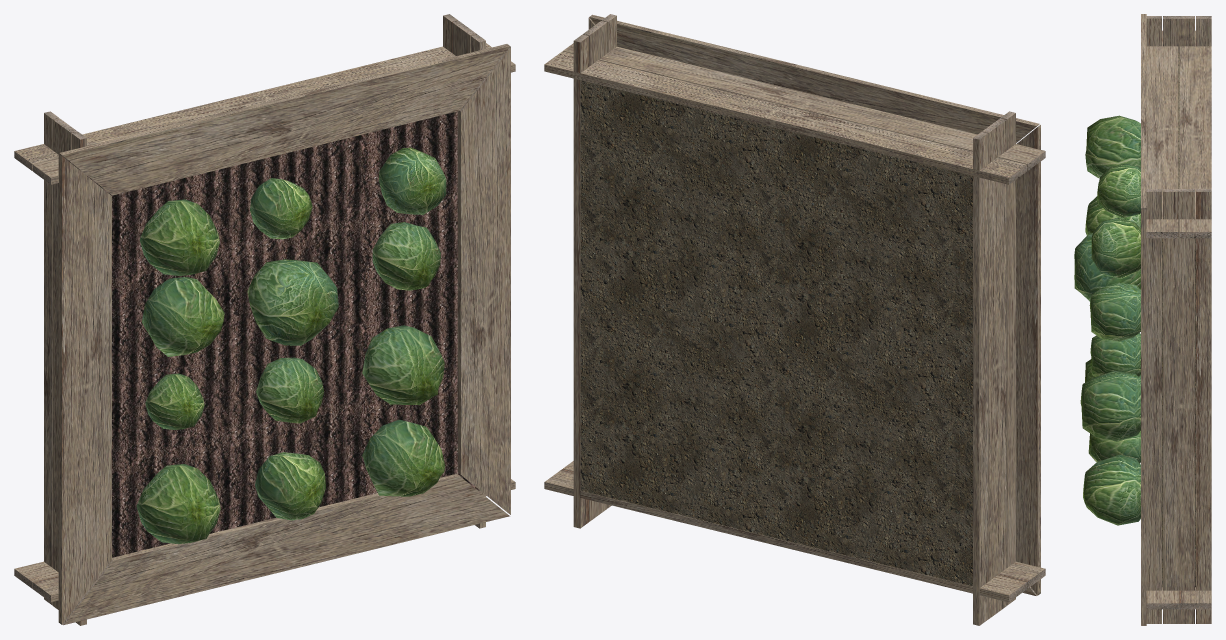
The model's file is cabbage-ripe.dae.
The picture shows the model from 3 angles, left to right: view 1: azimuth 30°, elevation 25°; view 2: azimuth 150°, elevation 25°; view 3: azimuth 270°, elevation 25°; orthographic projection. The views are drawn at different scales.
Parts seen in each view (by area): view 1: dirt, top_2_Cube_022, top_1_Cube_016, top_4_Cube_023, top_3_Cube_021, cabbage_10_SphFBXASC195FBXASC131_re_011, plank_01_Cube_02, cabbage_6_SphFBXASC195FBXASC131_re_007, cabbage_3_SphFBXASC195FBXASC131_re_004, cabbage_1_SphFBXASC195FBXASC131_re_002, cabbage_5_SphFBXASC195FBXASC131_re_006, cabbage_12_SphFBXASC195FBXASC131_re (+9 smaller); view 2: dirt, plank_01_Cube_02, top_1_Cube_016, top_2_Cube_022, plank_04_Cube_006, plank_02_Cube_03, plank_03_Cube_004, plank_06_Cube_009, plank_08_Cube_011, plank_05_Cube_007, plank_09_Cube_013, plank_07_Cube_010; view 3: plank_09_Cube_013, plank_08_Cube_011, plank_10_Cube_014, plank_02_Cube_03, plank_01_Cube_02, cabbage_6_SphFBXASC195FBXASC131_re_007, cabbage_5_SphFBXASC195FBXASC131_re_006, cabbage_12_SphFBXASC195FBXASC131_re, cabbage_8_SphFBXASC195FBXASC131_re_009, cabbage_9_SphFBXASC195FBXASC131_re_010, top_4_Cube_023, cabbage_11_SphFBXASC195FBXASC131_re_012 (+11 smaller).
Boxes of the visible parts, x1=… form: dirt: x1=87, y1=111, x2=478, y2=557; top_2_Cube_022: x1=58, y1=154, x2=111, y2=624; top_1_Cube_016: x1=60, y1=44, x2=509, y2=195; top_4_Cube_023: x1=457, y1=46, x2=510, y2=514; top_3_Cube_021: x1=62, y1=474, x2=509, y2=625; cabbage_10_SphFBXASC195FBXASC131_re_011: x1=247, y1=259, x2=338, y2=345; plank_01_Cube_02: x1=14, y1=43, x2=491, y2=170; cabbage_6_SphFBXASC195FBXASC131_re_007: x1=362, y1=325, x2=444, y2=405; cabbage_3_SphFBXASC195FBXASC131_re_004: x1=136, y1=464, x2=220, y2=544; cabbage_1_SphFBXASC195FBXASC131_re_002: x1=142, y1=277, x2=224, y2=356; cabbage_5_SphFBXASC195FBXASC131_re_006: x1=362, y1=419, x2=445, y2=496; cabbage_12_SphFBXASC195FBXASC131_re: x1=139, y1=199, x2=219, y2=275; dirt: x1=580, y1=80, x2=972, y2=586; plank_01_Cube_02: x1=544, y1=51, x2=1026, y2=184; top_1_Cube_016: x1=589, y1=14, x2=1039, y2=142; top_2_Cube_022: x1=1016, y1=125, x2=1040, y2=595; plank_04_Cube_006: x1=982, y1=118, x2=1006, y2=619; plank_02_Cube_03: x1=563, y1=43, x2=1045, y2=170; plank_03_Cube_004: x1=973, y1=131, x2=988, y2=625; plank_06_Cube_009: x1=544, y1=469, x2=1026, y2=602; plank_08_Cube_011: x1=573, y1=34, x2=588, y2=528; plank_05_Cube_007: x1=1001, y1=111, x2=1015, y2=605; plank_09_Cube_013: x1=583, y1=21, x2=607, y2=521; plank_07_Cube_010: x1=563, y1=461, x2=1045, y2=588; plank_09_Cube_013: x1=1163, y1=189, x2=1194, y2=623; plank_08_Cube_011: x1=1196, y1=189, x2=1211, y2=623; plank_10_Cube_014: x1=1146, y1=189, x2=1161, y2=623; plank_02_Cube_03: x1=1146, y1=30, x2=1178, y2=238; plank_01_Cube_02: x1=1179, y1=30, x2=1211, y2=238; cabbage_6_SphFBXASC195FBXASC131_re_007: x1=1080, y1=370, x2=1140, y2=441; cabbage_5_SphFBXASC195FBXASC131_re_006: x1=1083, y1=454, x2=1140, y2=525; cabbage_12_SphFBXASC195FBXASC131_re: x1=1085, y1=115, x2=1140, y2=178; cabbage_8_SphFBXASC195FBXASC131_re_009: x1=1089, y1=282, x2=1140, y2=341; cabbage_9_SphFBXASC195FBXASC131_re_010: x1=1091, y1=218, x2=1140, y2=278; top_4_Cube_023: x1=1141, y1=209, x2=1146, y2=625; cabbage_11_SphFBXASC195FBXASC131_re_012: x1=1096, y1=163, x2=1140, y2=218.
Bounding box in the file's own units: 3.68 × 3.68 × 1.06.
4 materials, 4 textured.
